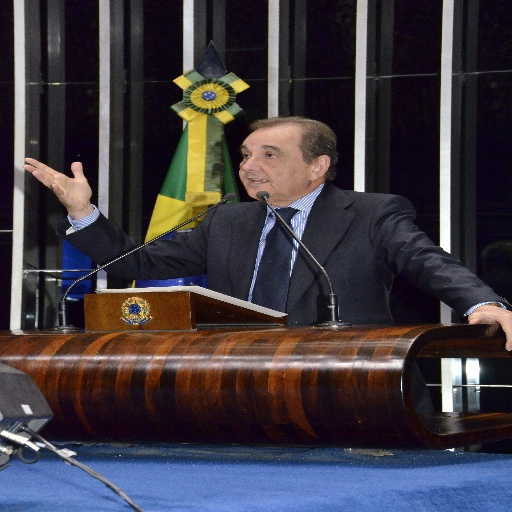hand: (18, 146, 105, 216), (466, 304, 511, 352)
